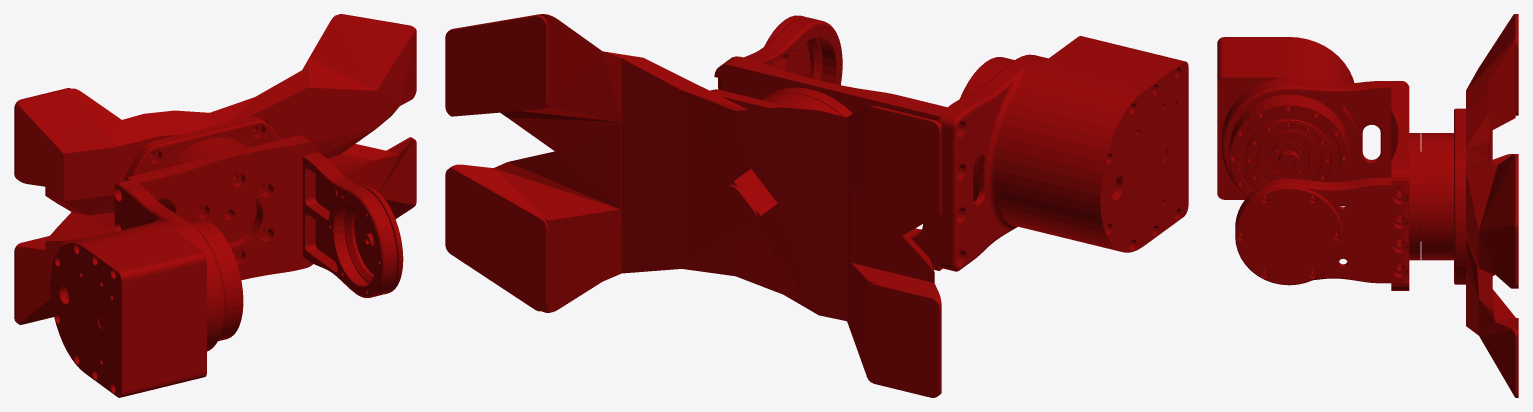
The model's file is L_Ankle_Roll.obj.
3 views of the same model, side by side, from view 1: azimuth 30°, elevation 25°; view 2: azimuth 150°, elevation 25°; view 3: azimuth 270°, elevation 25° (orthographic). The views are drawn at different scales.
Parts seen in each view (by area): view 1: L_Ankle_Roll; view 2: L_Ankle_Roll; view 3: L_Ankle_Roll.
Part boxes in pixels (box(x1,y1,x2,y2)): L_Ankle_Roll: box(14, 14, 416, 397); L_Ankle_Roll: box(445, 14, 1188, 397); L_Ankle_Roll: box(1217, 14, 1518, 397).
Size of the model in its own units: 0.3362 by 0.1733 by 0.201.
